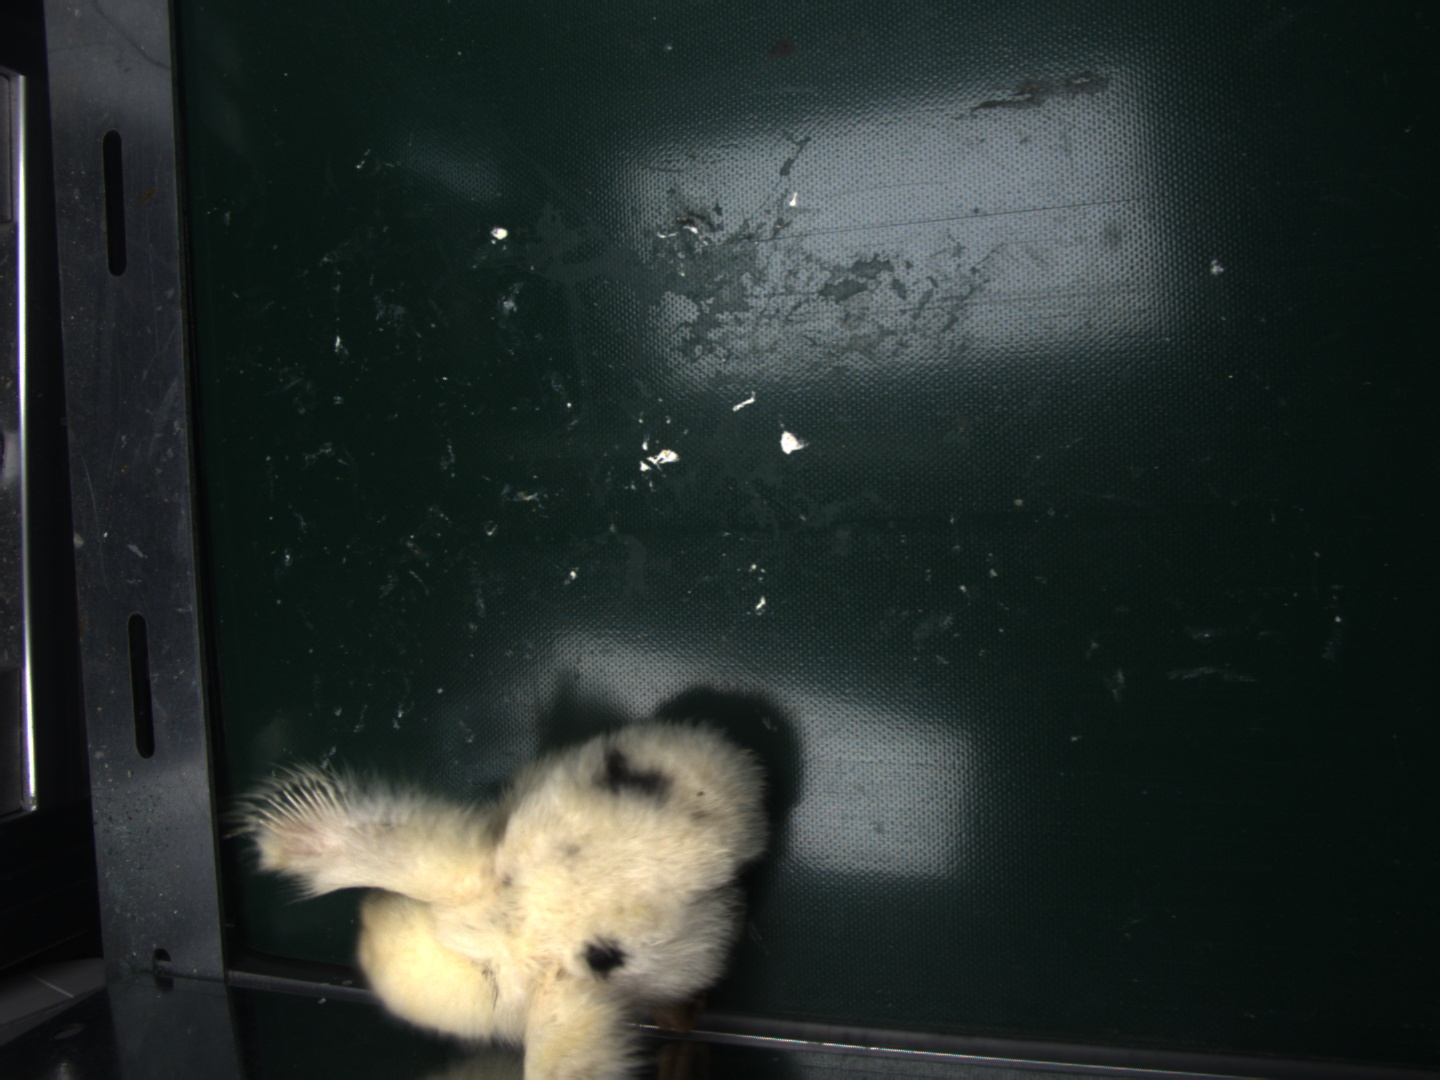male: (257, 776, 340, 835)
